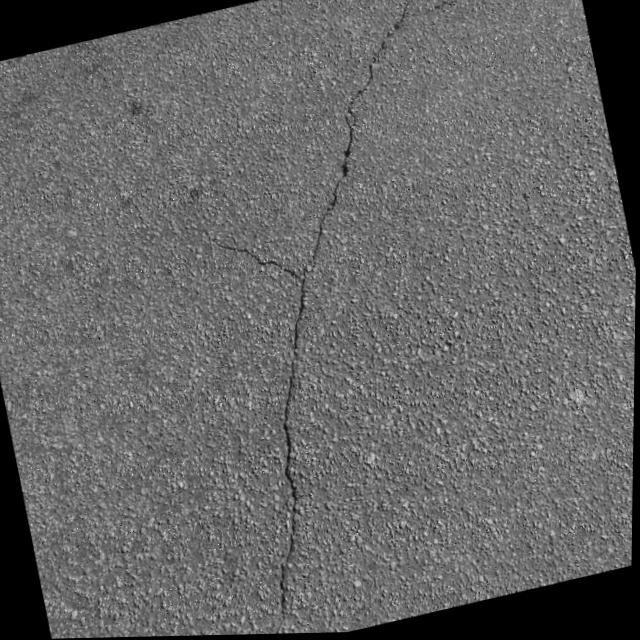Crack: (141, 0, 640, 637)
